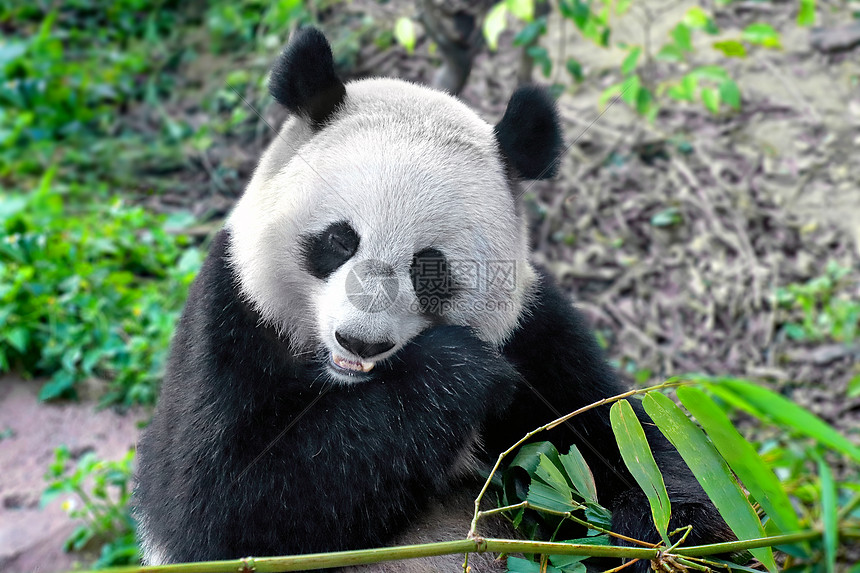panda: (158, 39, 690, 556)
